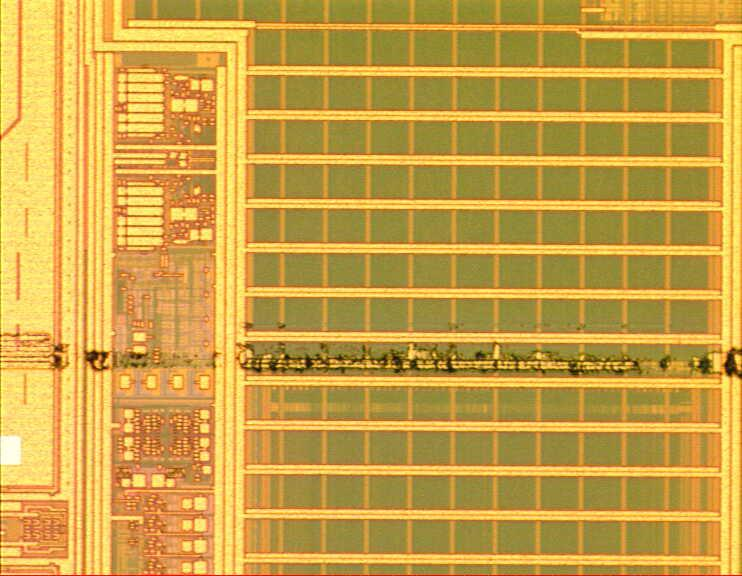SCRATCH: (1, 323, 742, 394)
